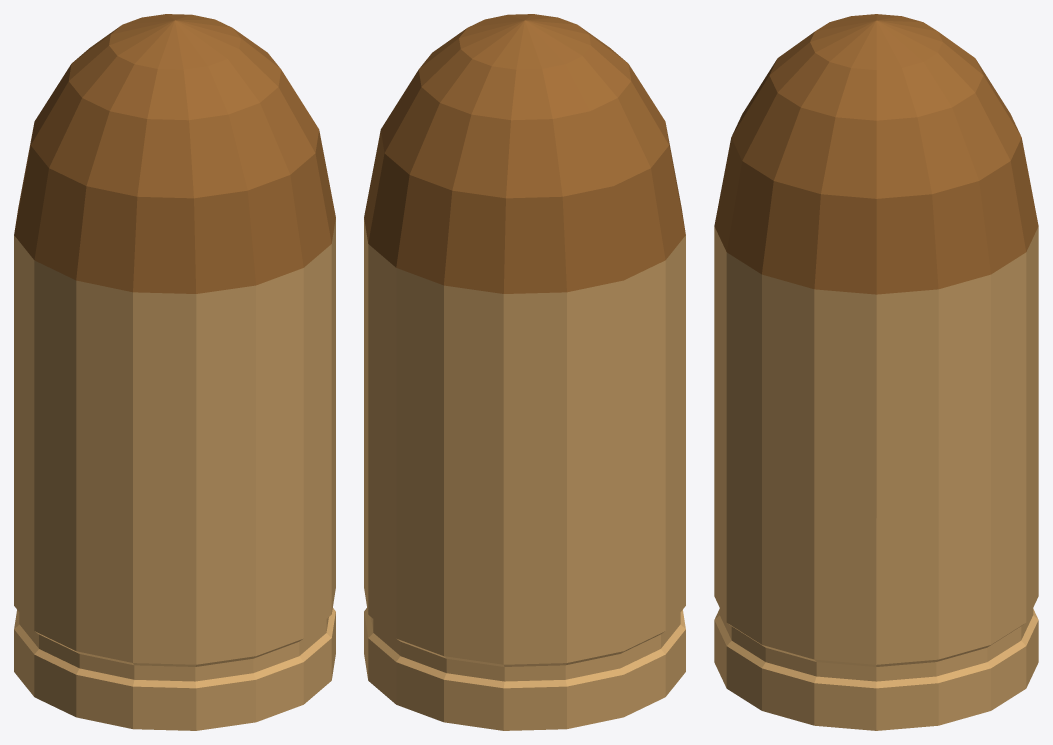
Rendered from bullet.fbx.
3 views of the same model, side by side, from view 1: azimuth 30°, elevation 25°; view 2: azimuth 150°, elevation 25°; view 3: azimuth 270°, elevation 25° (orthographic).
Parts seen in each view (by area): view 1: Circle; view 2: Circle; view 3: Circle.
Part boxes in pixels (box(x1,y1,x2,y2)): Circle: box(14, 14, 335, 730); Circle: box(364, 14, 685, 730); Circle: box(714, 14, 1038, 730).
Size of the model in its own units: 14.95 by 32.65 by 14.95.
